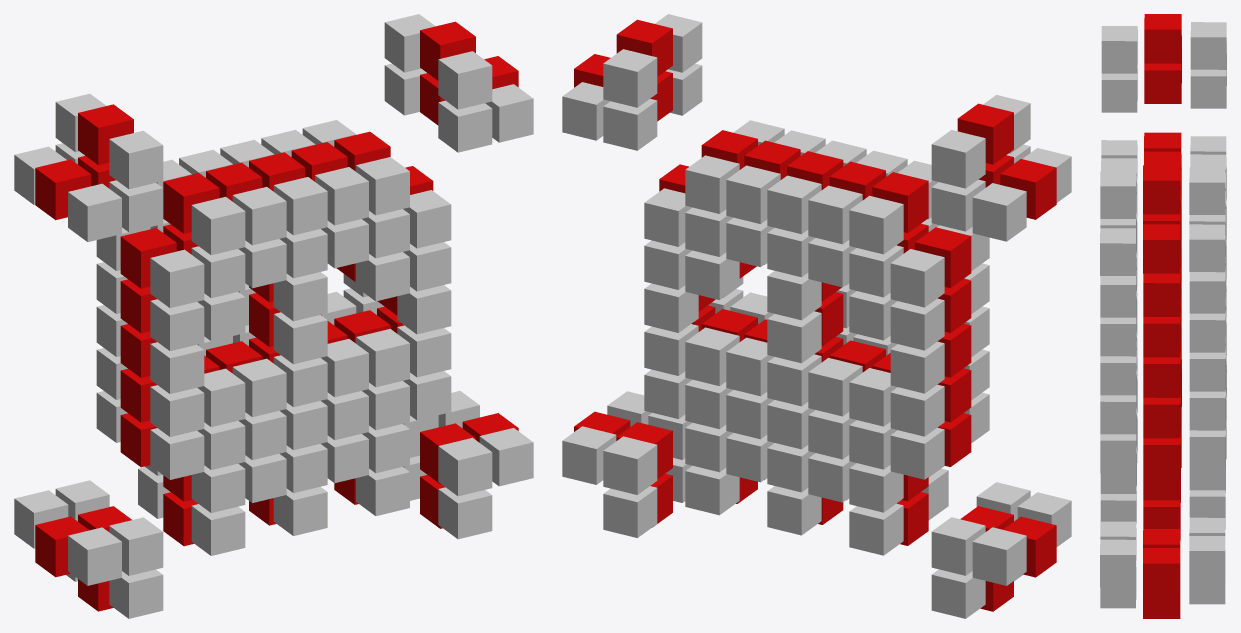
Rendered from skull.fbx.
3 renders of one model, left to right at view 1: azimuth 30°, elevation 25°; view 2: azimuth 150°, elevation 25°; view 3: azimuth 270°, elevation 25°, orthographic. The views are drawn at different scales.
Visible parts, largest first — view 1: polySurface325; view 2: polySurface325; view 3: polySurface325.
Part boxes in pixels (box(x1,y1,x2,y2)): polySurface325: box(14, 14, 533, 618); polySurface325: box(562, 14, 1071, 618); polySurface325: box(1100, 14, 1226, 618).
Bounding box in the file's own units: 28.15 × 28.14 × 7.38.
